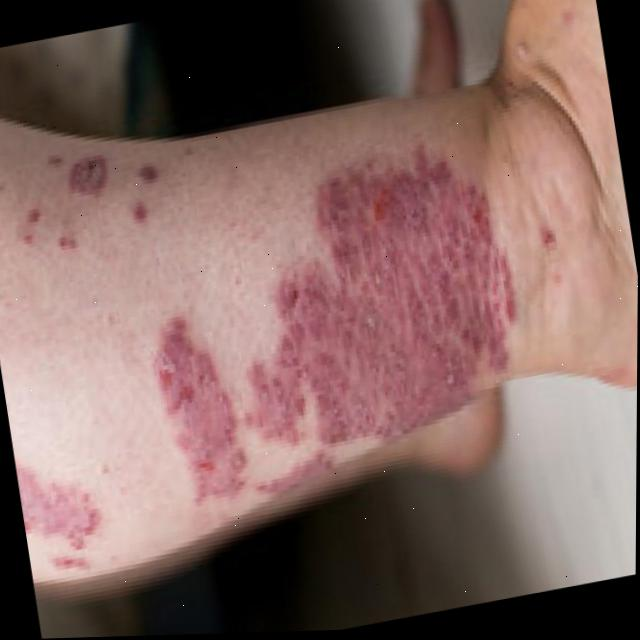Eczema: (0, 80, 508, 573)
